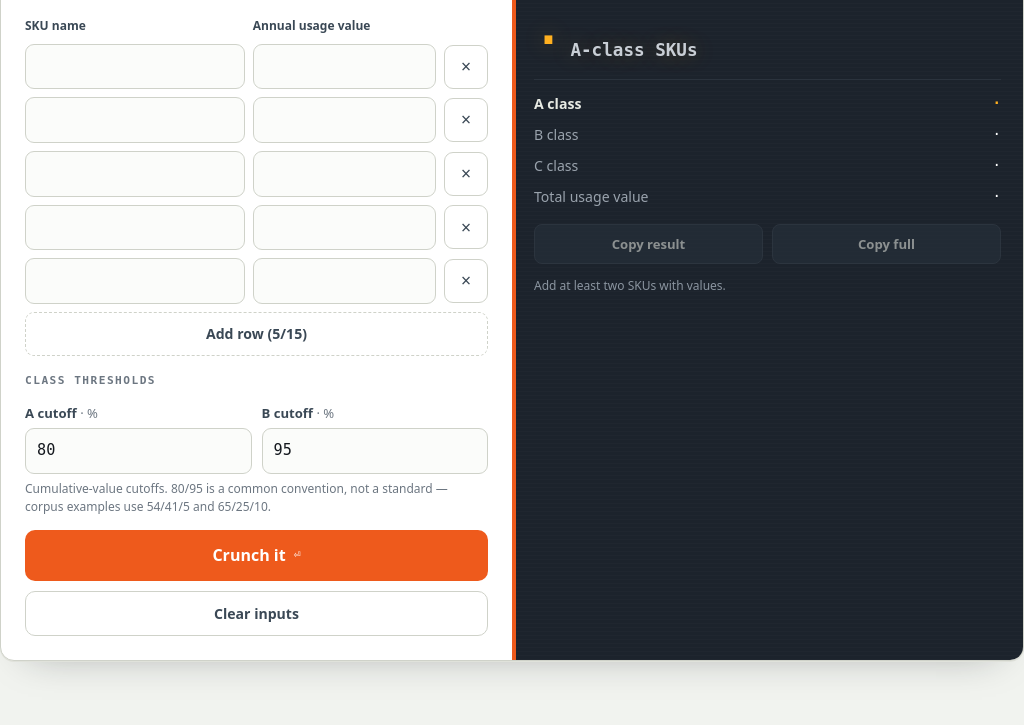
Test case: AbcCalculator › reclassifies when thresholds change
Type "alpha" into the field named "SKU 1 name". click: (135, 67)
box: [25, 44, 245, 90]
Type "54000" into the number field named "SKU 1 annual usage value". click: (344, 67)
box: [253, 44, 436, 90]
Type "bravo" into the field named "SKU 2 name". click: (135, 120)
box: [25, 98, 245, 143]
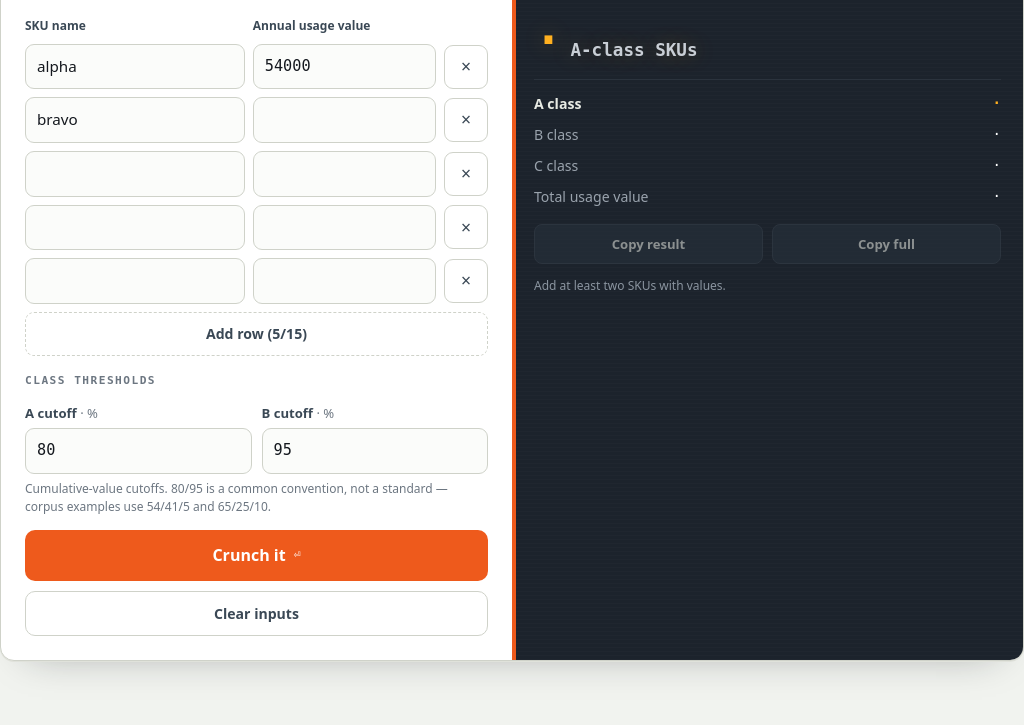
Type "41000" into the number field named "SKU 2 annual usage value". click: (344, 120)
box: [253, 98, 436, 143]
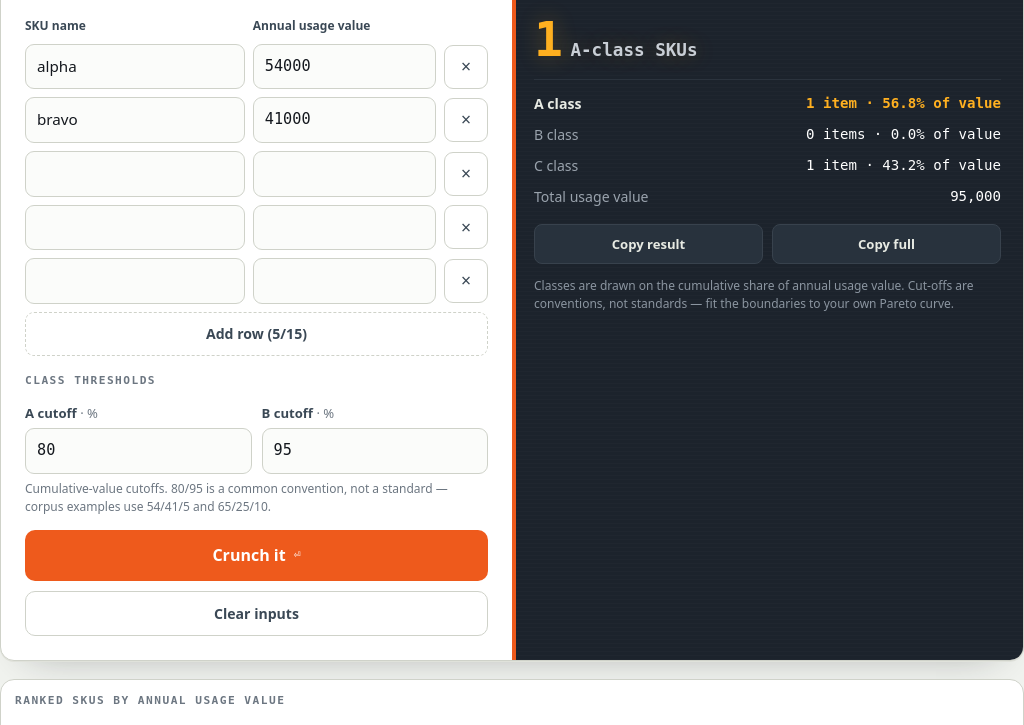
Type "charlie" into the field named "SKU 3 name". click: (135, 174)
box: [25, 151, 245, 196]
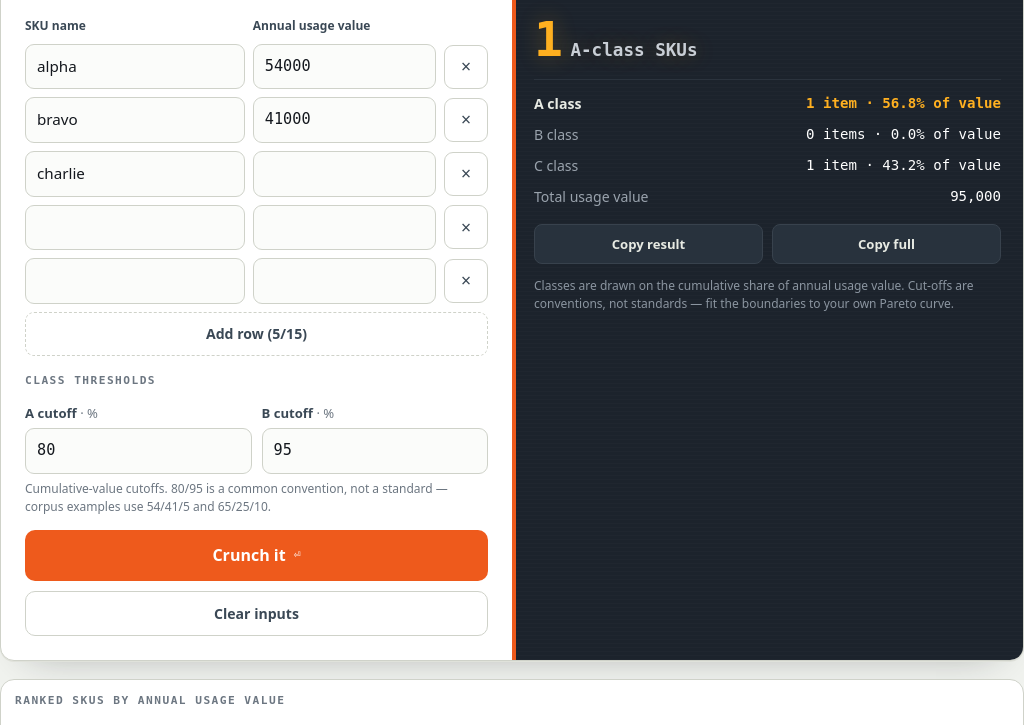
Type "5000" into the number field named "SKU 3 annual usage value". click: (344, 174)
box: [253, 151, 436, 196]
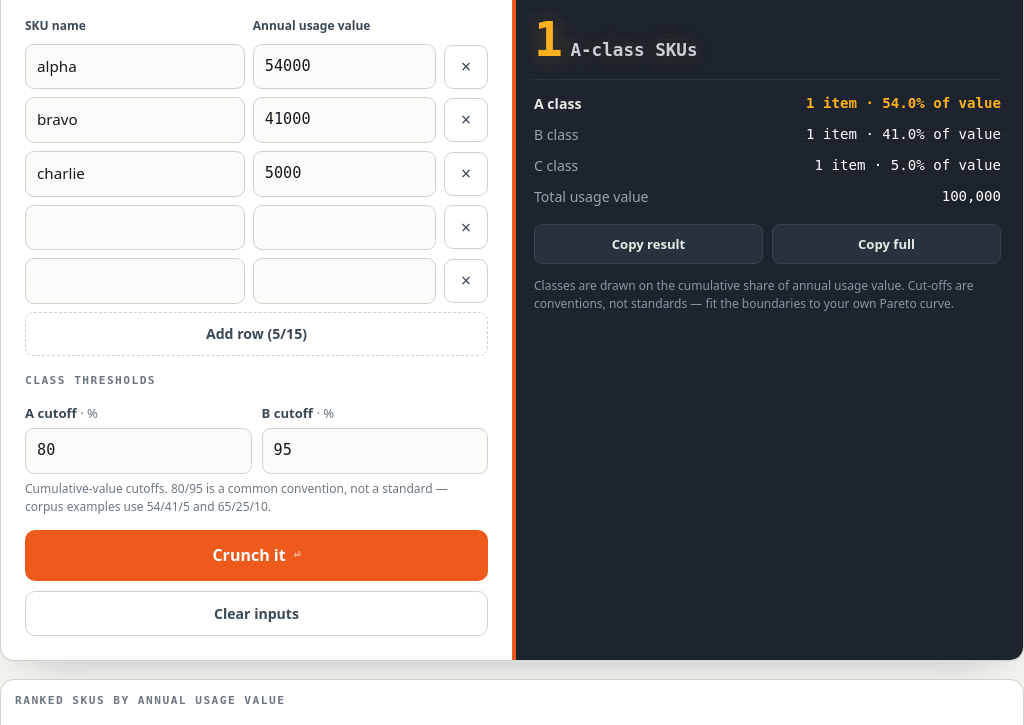
Replace the text in the number field labelled "A cutoff" with "96". click: (138, 451)
box: [25, 428, 252, 474]
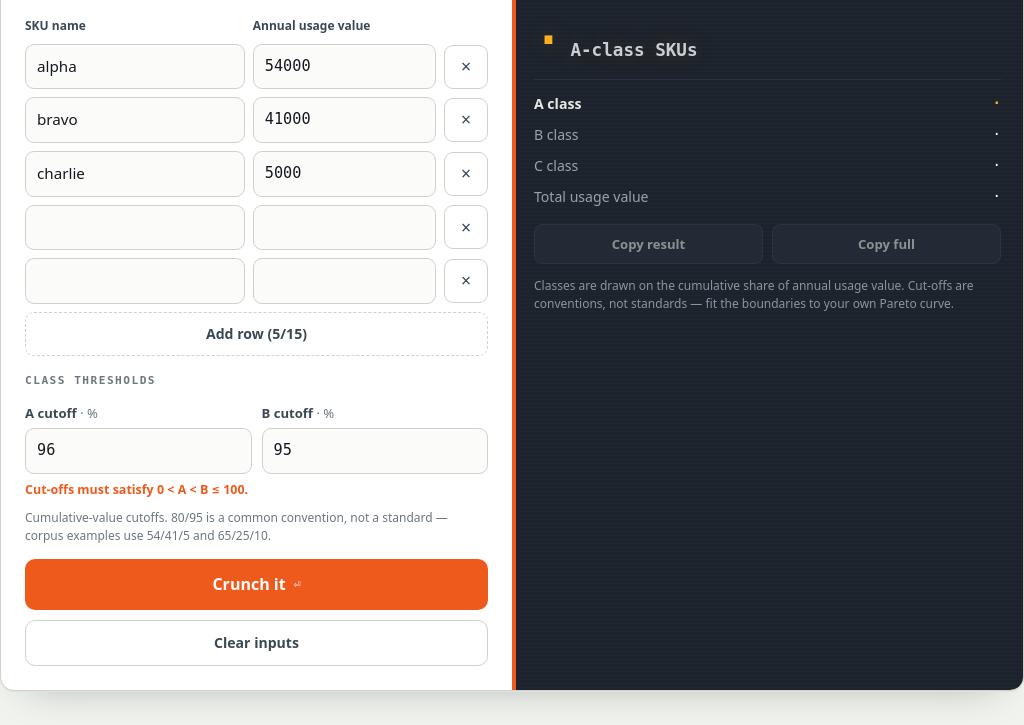
Replace the text in the number field labelled "B cutoff" with "99". click: (375, 451)
box: [262, 428, 488, 474]
(page scrolled)
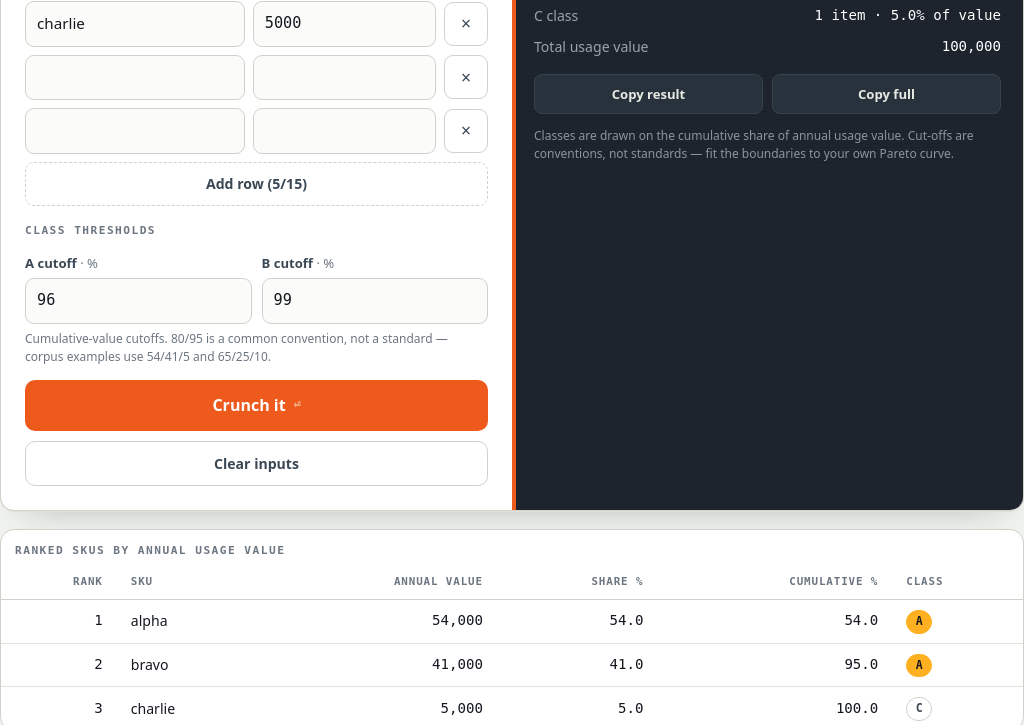
Result: the text with test id "abc-class-2" reads "A" at [916, 658, 923, 672]
Result: the text with test id "abc-class-3" reads "C" at [916, 701, 923, 715]
